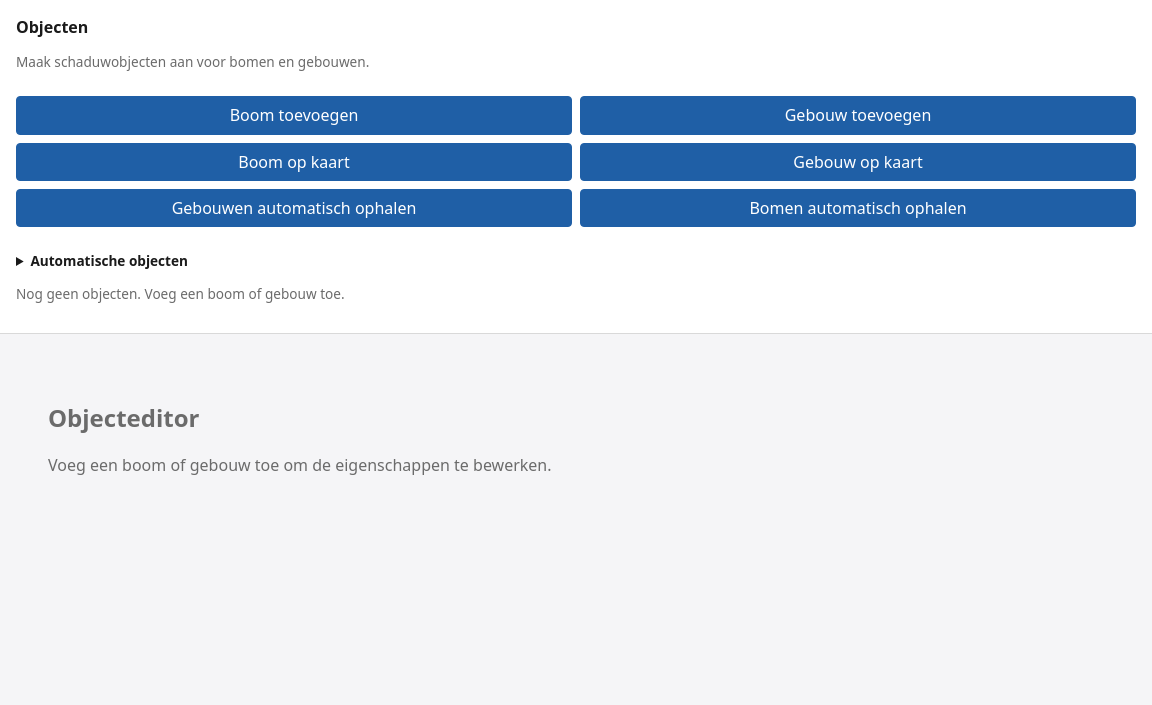
Test: <ObjectsTab> › imports nearby trees from OpenStreetMap
The width and height of the screenshot is (1152, 705).
Click the button "Bomen automatisch ophalen" at (858, 208), box [580,189,1136,227]
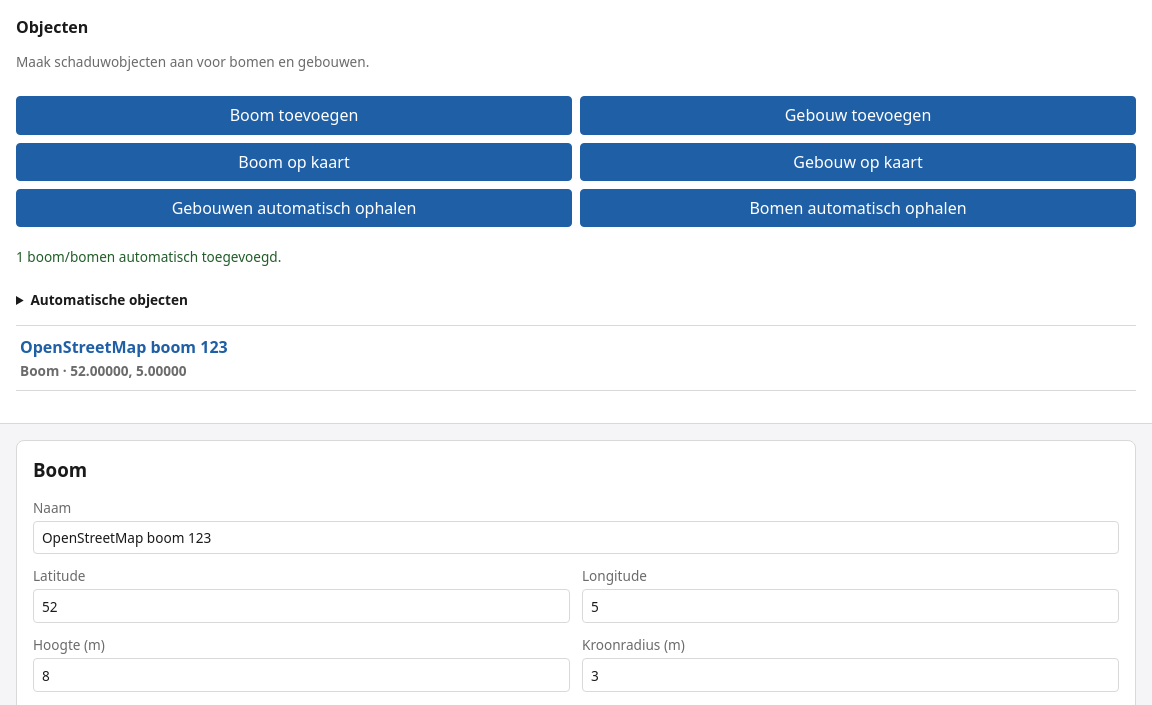
Now the text "1 boom/bomen automatisch toegevoegd." is shown, box [16,247,281,266]
